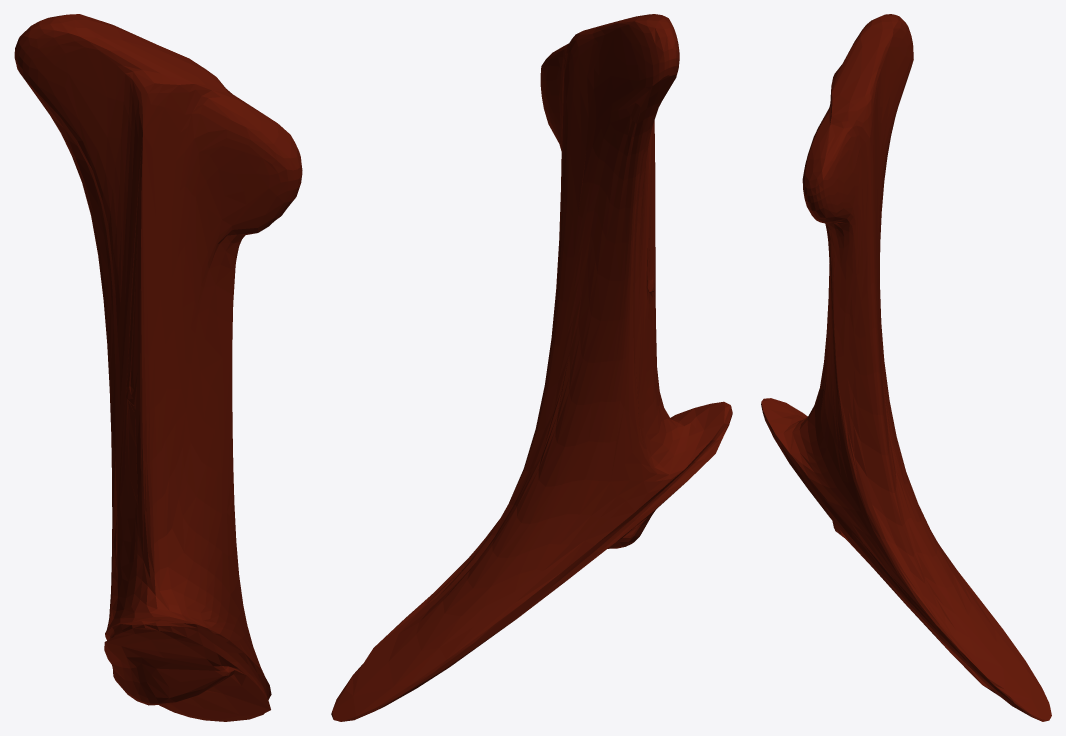
3 renders of one model, left to right at view 1: azimuth 30°, elevation 25°; view 2: azimuth 150°, elevation 25°; view 3: azimuth 270°, elevation 25°, orthographic. The views are drawn at different scales.
Visible parts, largest first — view 1: 794_Cube.3199; view 2: 794_Cube.3199; view 3: 794_Cube.3199.
Part boxes in pixels (box(x1,y1,x2,y2)): 794_Cube.3199: box(14, 14, 302, 721); 794_Cube.3199: box(331, 14, 732, 721); 794_Cube.3199: box(761, 14, 1051, 721).
Bounding box in the file's own units: 6.52 × 16.11 × 7.03.
